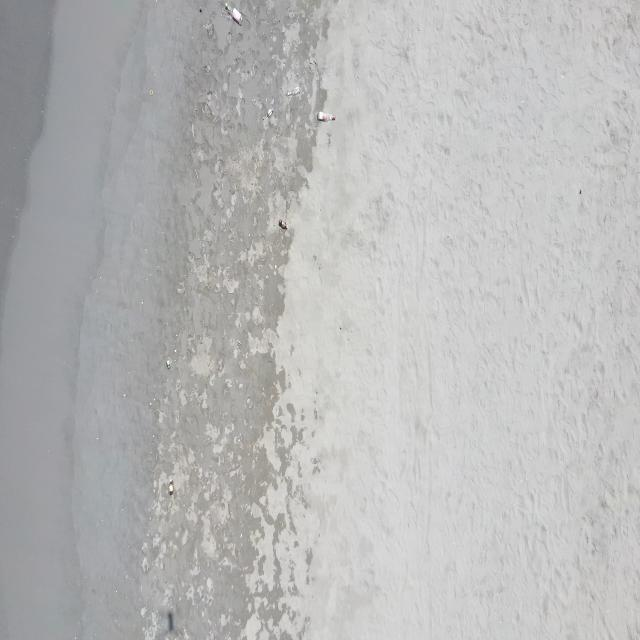glass: (224, 1, 244, 28), (316, 110, 336, 123), (287, 86, 301, 98), (278, 218, 288, 232), (266, 105, 274, 119), (168, 478, 174, 496), (166, 358, 171, 371)
